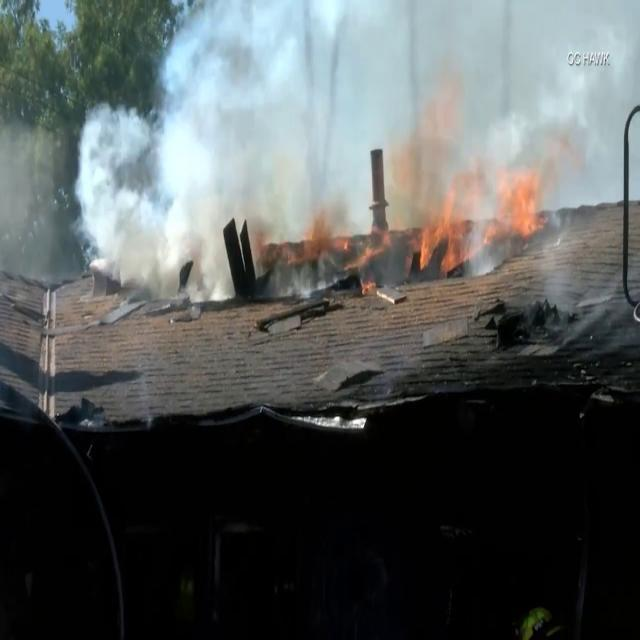Fire: (414, 150, 548, 278), (416, 191, 476, 277), (493, 160, 549, 243)
Smoke: (74, 2, 358, 290), (383, 5, 587, 276), (0, 79, 68, 357)
